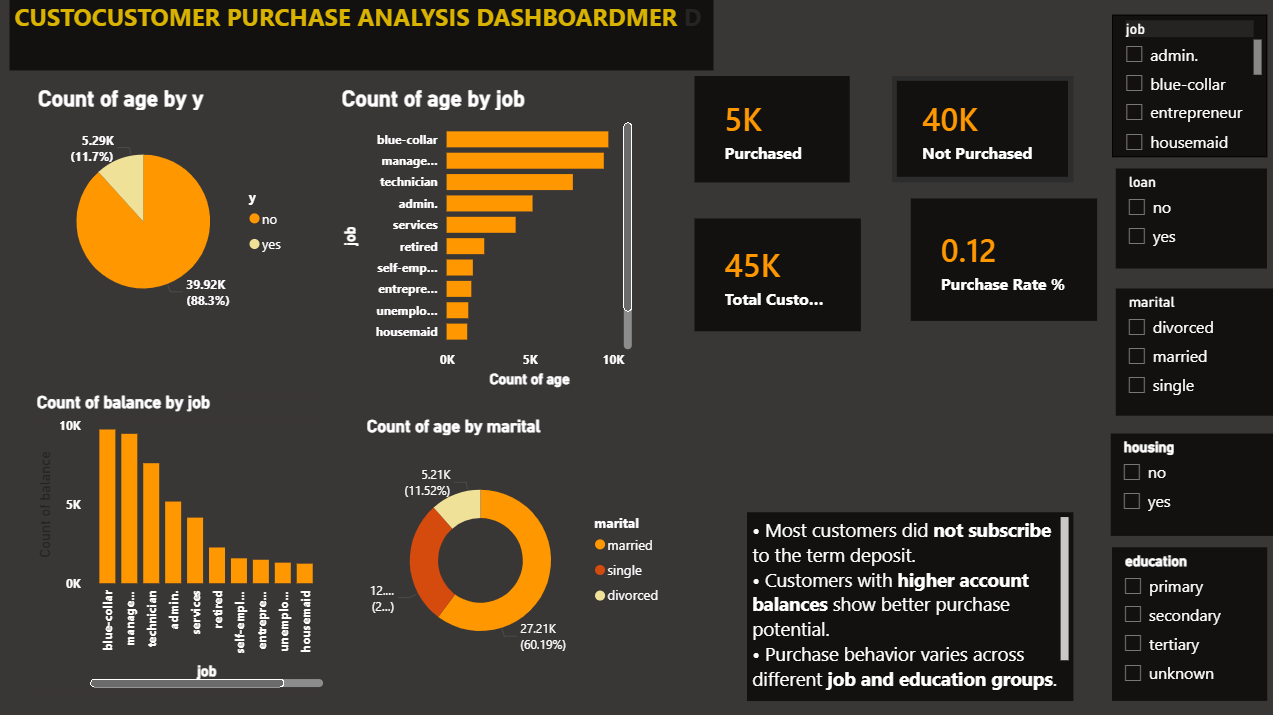

What the dashboard file says about the page in this screenshot:
{"tool":"powerbi","page":{"name":"Page 1","canvas":[1280,720],"ordinal":0},"visuals":[{"type":"cardVisual","fields":{"Data":["bank-full.Total Customers"]},"box":[697.5,222.5,166.2,112.5],"z":0},{"type":"cardVisual","fields":{"Data":["bank-full.Purchased"]},"box":[697.5,80,155,106.2],"z":1},{"type":"cardVisual","fields":{"Data":["bank-full.Not Purchased"]},"box":[895,80,181.2,106.2],"z":2},{"type":"cardVisual","fields":{"Data":["bank-full.Purchase Rate %"]},"box":[913.8,202.5,186.2,122.5],"z":3},{"type":"pieChart","fields":{"Category":["bank-full.y"],"Y":["CountNonNull(bank-full.age)"]},"box":[36.2,90,262.5,247.5],"z":4},{"type":"clusteredBarChart","fields":{"Category":["bank-full.job"],"Y":["CountNonNull(bank-full.age)"]},"box":[340,90,300,306.2],"z":5},{"type":"donutChart","fields":{"Category":["bank-full.marital"],"Y":["CountNonNull(bank-full.age)"]},"box":[365,420,311.2,270],"z":6},{"type":"clusteredColumnChart","fields":{"Category":["bank-full.job"],"Y":["CountNonNull(bank-full.balance)"]},"box":[35,396.2,296.2,300],"z":7},{"type":"slicer","fields":{"Values":["bank-full.job"]},"box":[1115,18.8,155,142.5],"z":8},{"type":"slicer","fields":{"Values":["bank-full.education"]},"box":[1115,551.2,155,153.8],"z":9},{"type":"slicer","fields":{"Values":["bank-full.marital"]},"box":[1118.8,292.5,161.2,127.5],"z":10},{"type":"slicer","fields":{"Values":["bank-full.housing"]},"box":[1113.8,437.5,166.2,102.5],"z":11},{"type":"slicer","fields":{"Values":["bank-full.loan"]},"box":[1118.8,172.5,151.2,100],"z":12},{"type":"textbox","box":[12.9,0,704.3,74.3],"z":13},{"type":"textbox","box":[750,516.2,326.2,188.8],"z":14}]}

Visuals, with their boxes in screenshot pixels (x1, y1, x2, y2), scaled from the page's 1280x720 canvas onto the 1273x715 screenshot:
cardVisual - bank-full.Total Customers: detection(694, 221, 859, 333)
cardVisual - bank-full.Purchased: detection(694, 79, 848, 185)
cardVisual - bank-full.Not Purchased: detection(890, 79, 1070, 185)
cardVisual - bank-full.Purchase Rate %: detection(909, 201, 1094, 323)
pieChart - bank-full.y x CountNonNull(bank-full.age): detection(36, 89, 297, 335)
clusteredBarChart - bank-full.job x CountNonNull(bank-full.age): detection(338, 89, 636, 393)
donutChart - bank-full.marital x CountNonNull(bank-full.age): detection(363, 417, 673, 685)
clusteredColumnChart - bank-full.job x CountNonNull(bank-full.balance): detection(35, 393, 329, 691)
slicer - bank-full.job: detection(1109, 19, 1263, 160)
slicer - bank-full.education: detection(1109, 547, 1263, 700)
slicer - bank-full.marital: detection(1113, 290, 1272, 417)
slicer - bank-full.housing: detection(1108, 434, 1272, 536)
slicer - bank-full.loan: detection(1113, 171, 1263, 271)
textbox: detection(13, 0, 713, 74)
textbox: detection(746, 513, 1070, 700)
